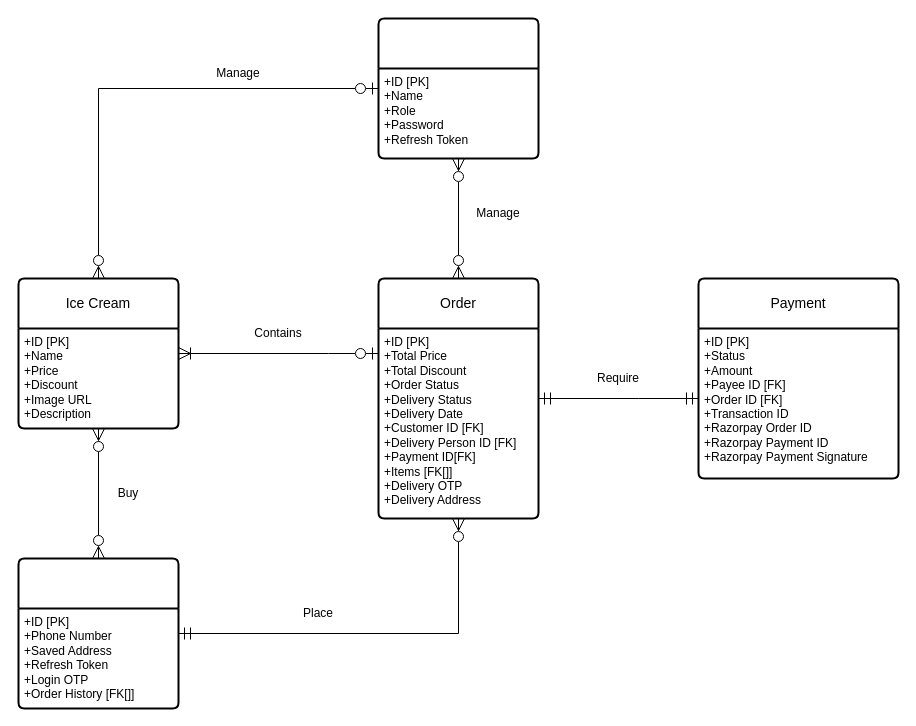
The diagram is 916 pixels wide and 726 high, and some of its shapes have lost their labels. Each missing label, with the box of its shape:
Admin: (377, 17, 539, 159)
Customer: (17, 557, 179, 709)
